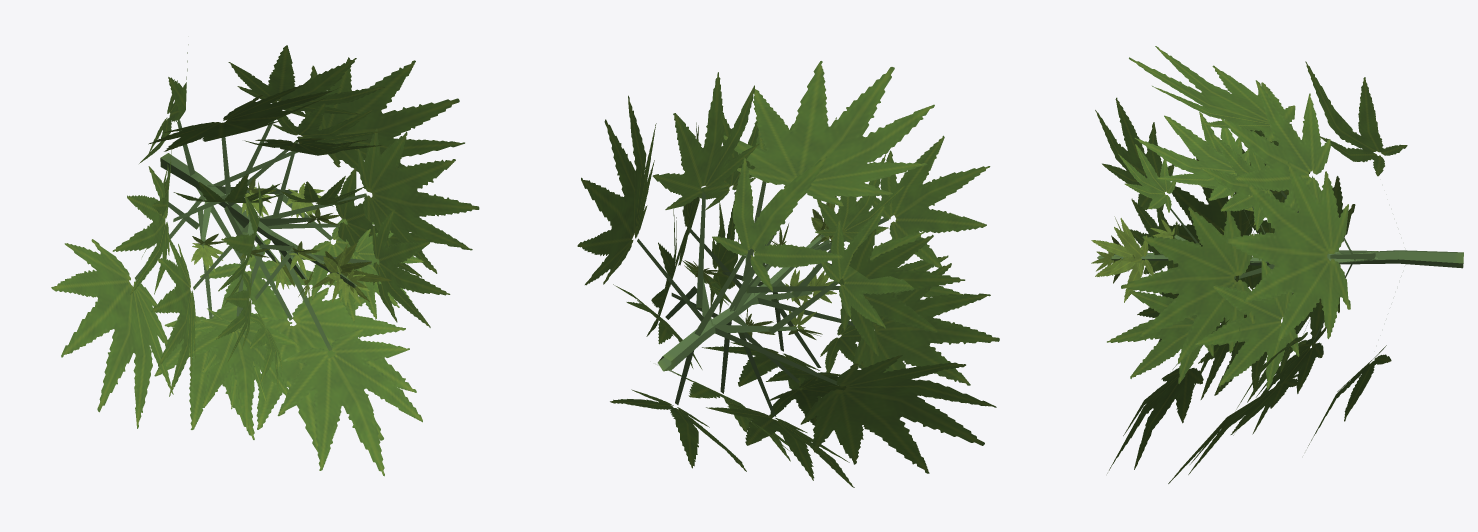
The model's file is p_haze_vegetative_c0_cards.obj.
3 renders of one model, left to right at view 1: azimuth 30°, elevation 25°; view 2: azimuth 150°, elevation 25°; view 3: azimuth 270°, elevation 25°, orthographic. The views are drawn at different scales.
Size of the model in its own units: 1.35 by 1.21 by 0.898.
1 material, 1 textured.
